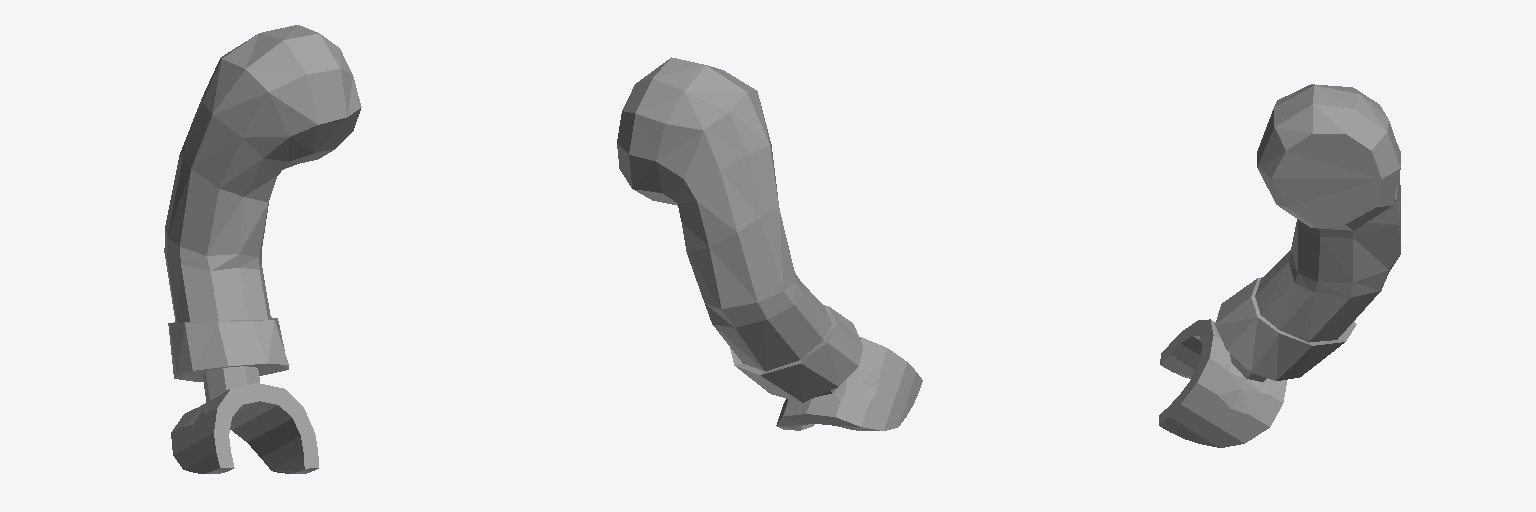
Rendered from elfo_brazos.obj.
3 renders of one model, left to right at view 1: azimuth 30°, elevation 25°; view 2: azimuth 150°, elevation 25°; view 3: azimuth 270°, elevation 25°, orthographic.
Visible parts, largest first — view 1: Mesh_Default.002_Mesh_Default.004; view 2: Mesh_Default.002_Mesh_Default.004; view 3: Mesh_Default.002_Mesh_Default.004.
Boxes of the visible parts, x1=… form: Mesh_Default.002_Mesh_Default.004: x1=164, y1=25, x2=361, y2=473; Mesh_Default.002_Mesh_Default.004: x1=617, y1=57, x2=922, y2=430; Mesh_Default.002_Mesh_Default.004: x1=1159, y1=84, x2=1400, y2=447.
Bounding box in the file's own units: 1.1 × 2 × 1.14.